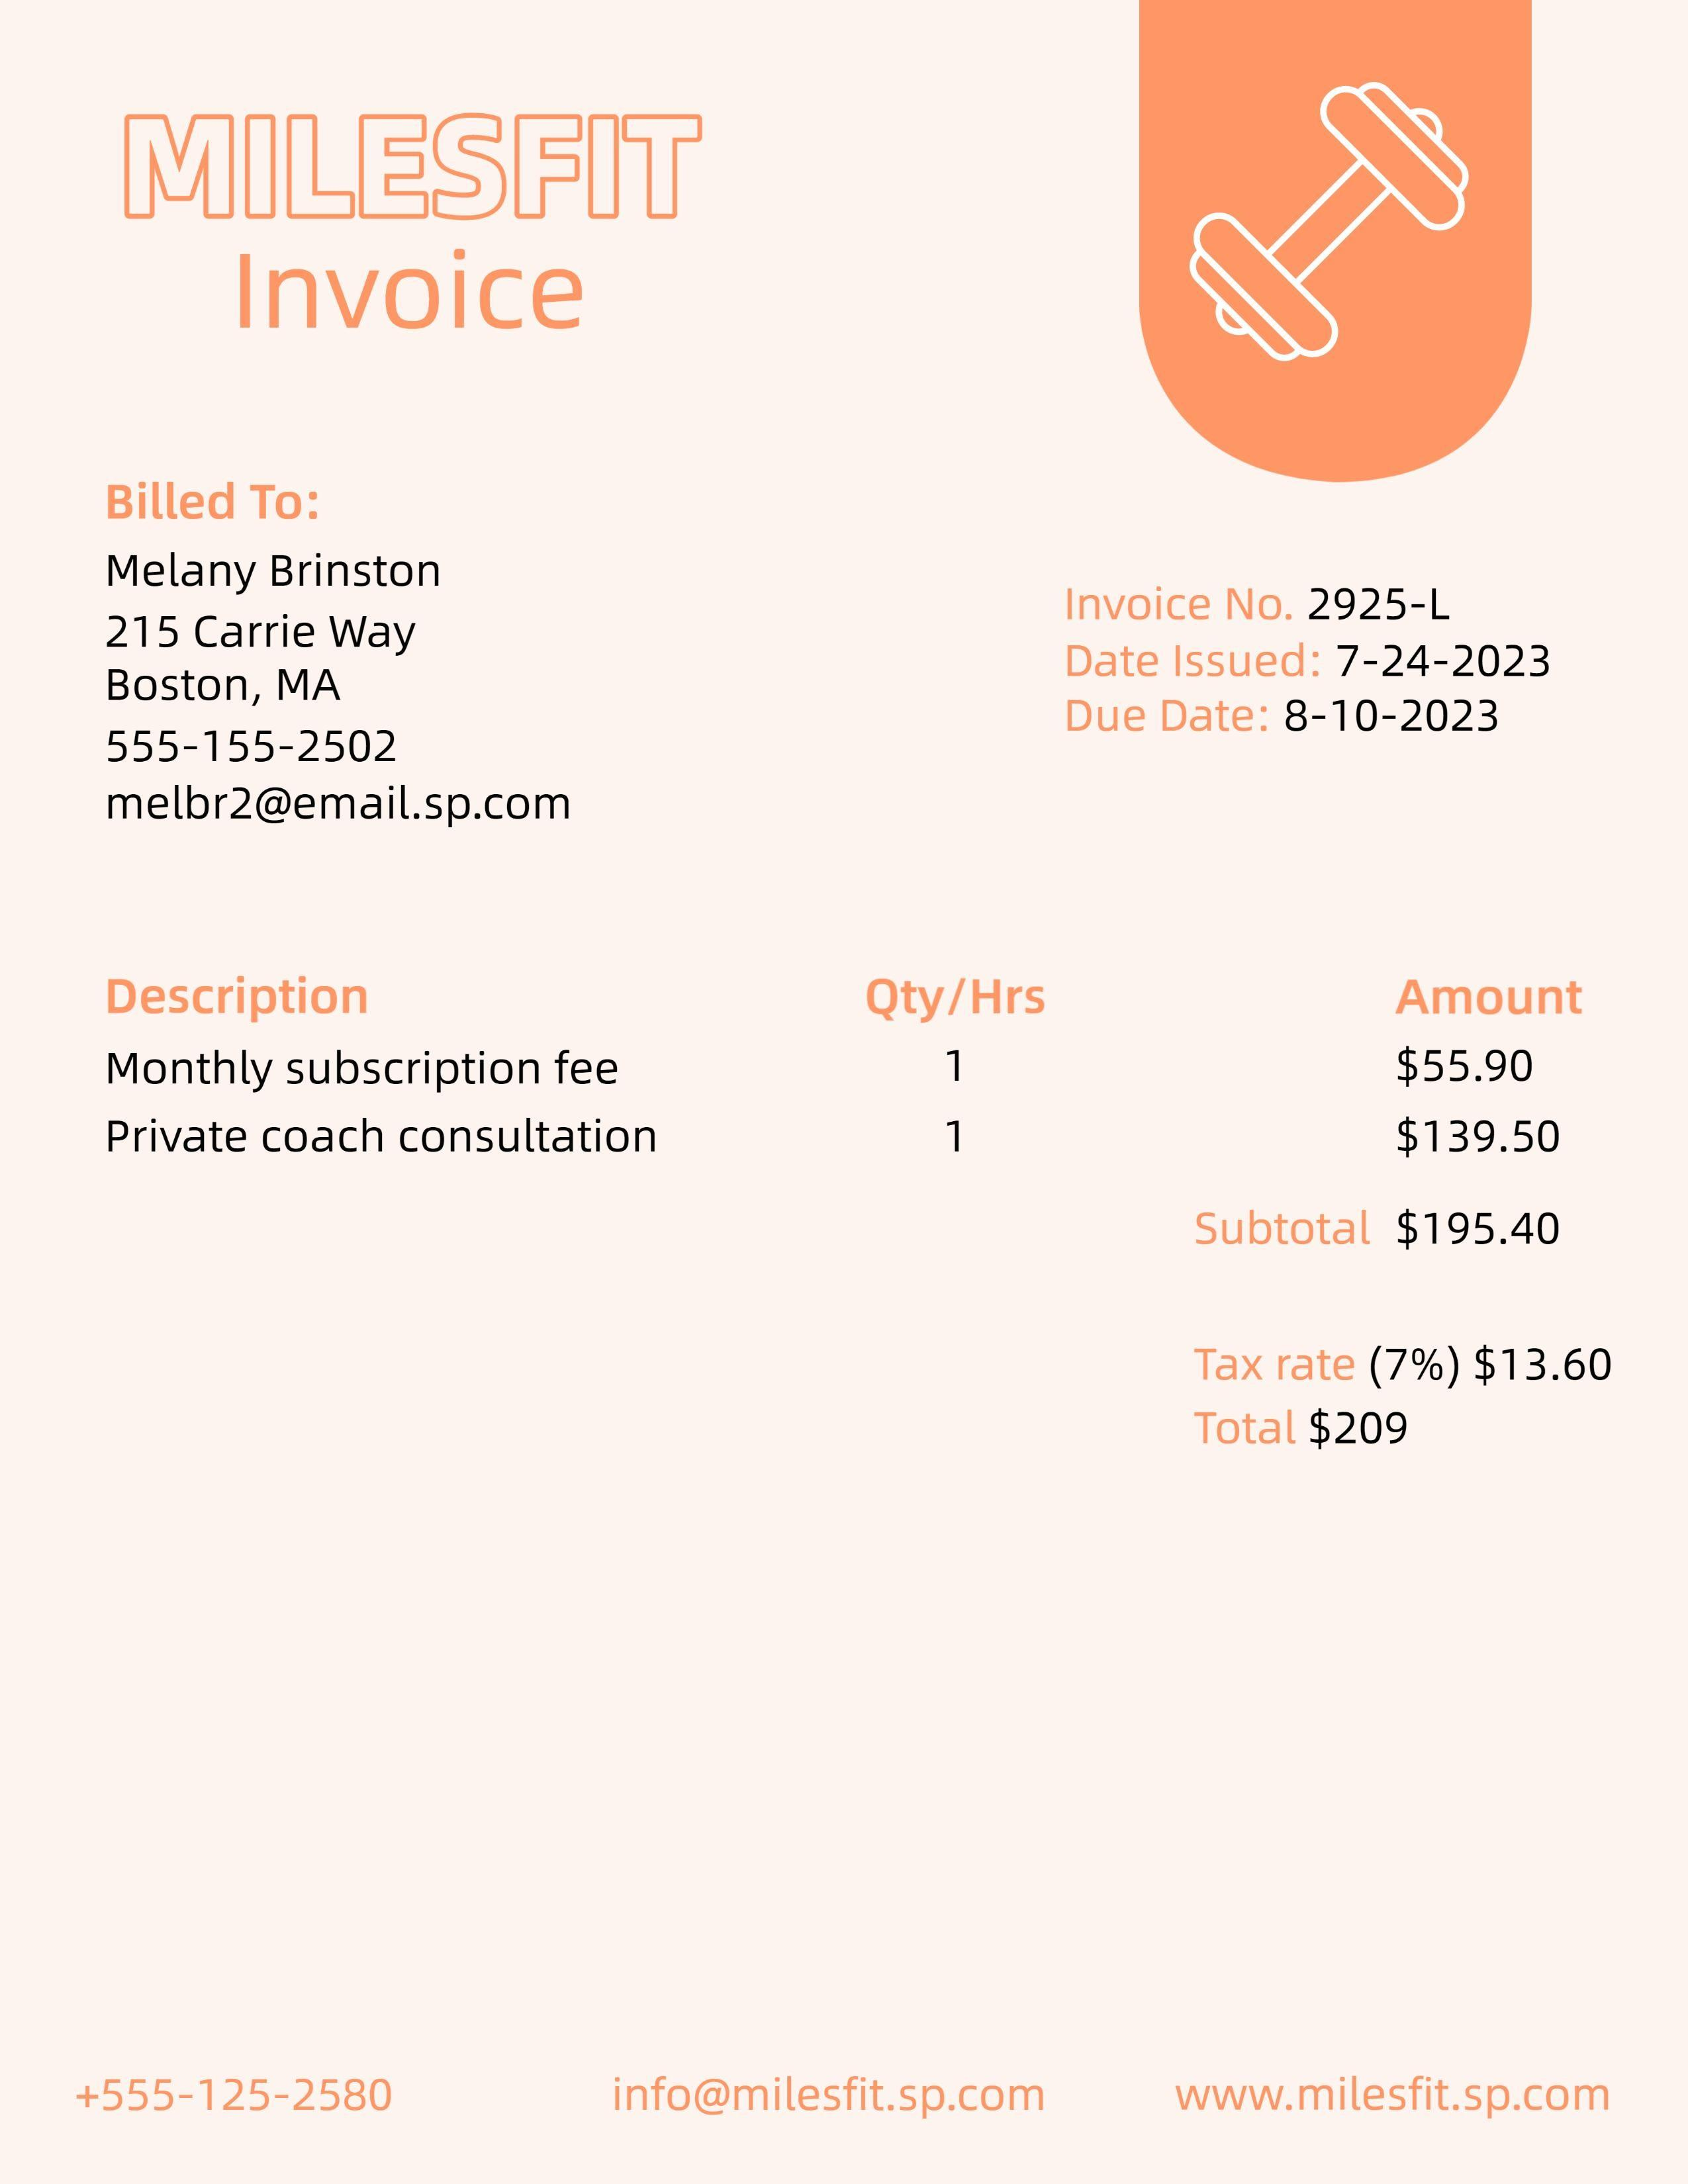ROI: (83, 952, 1635, 1271), (73, 447, 601, 844), (106, 80, 738, 367), (1039, 562, 1571, 775), (1147, 1308, 1629, 1473)
